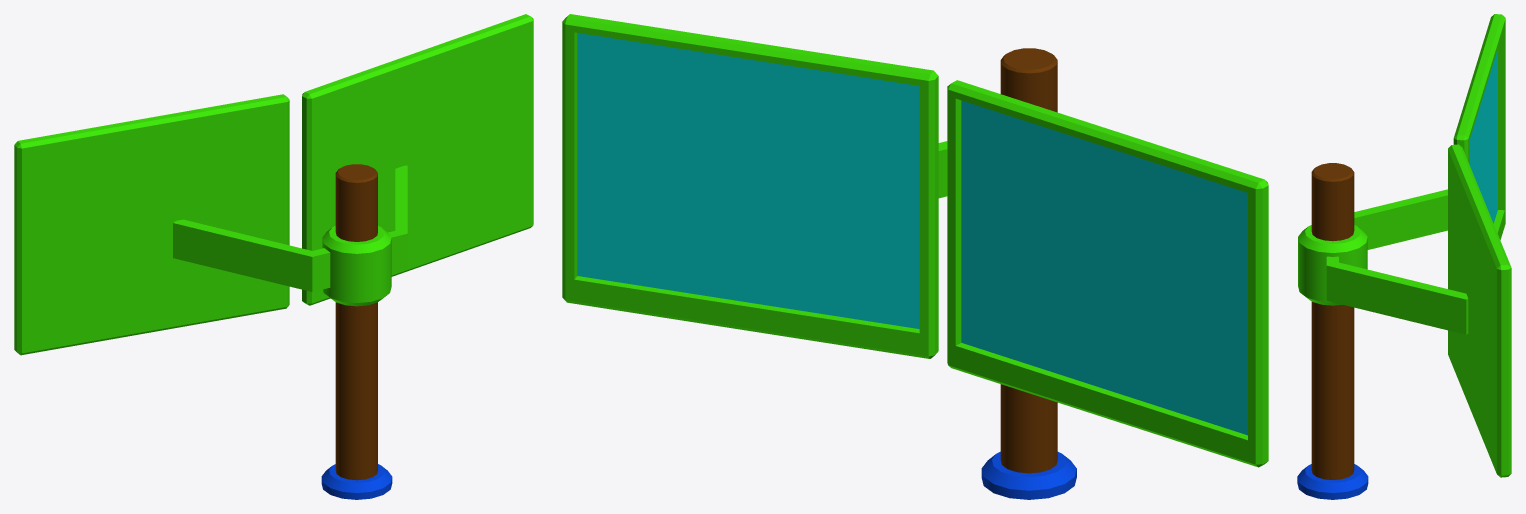
Rendered from Monitor_1.fbx.
The picture shows the model from 3 angles, left to right: view 1: azimuth 30°, elevation 25°; view 2: azimuth 150°, elevation 25°; view 3: azimuth 270°, elevation 25°; orthographic projection. The views are drawn at different scales.
Visible parts, largest first — view 1: Monitors_1; view 2: Monitors_1; view 3: Monitors_1.
Boxes of the visible parts, left/top/right/bottom form: Monitors_1: left=14, top=14, right=533, bottom=499; Monitors_1: left=562, top=14, right=1268, bottom=499; Monitors_1: left=1297, top=14, right=1511, bottom=499.
Size of the model in its own units: 1.22 by 0.7709 by 0.4329.
